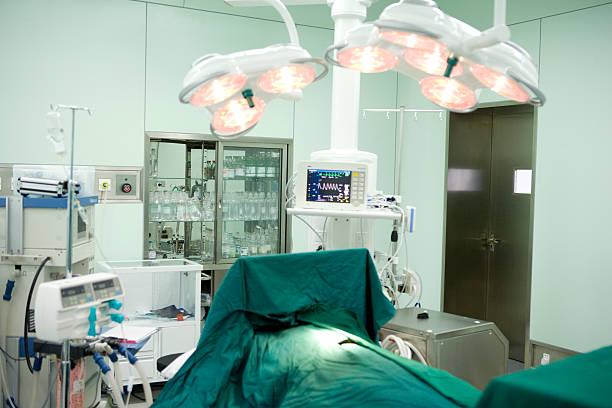bedside_monitor: (298, 161, 369, 213)
breathing_tube: (93, 341, 153, 408)
cabinet: (144, 132, 303, 273)
door_handle: (471, 230, 510, 253)
iv_pole: (357, 103, 448, 233), (50, 104, 94, 277)
operating_bed: (219, 250, 605, 408)
surgical_light: (327, 2, 549, 114), (180, 42, 333, 138)
syringe_pump: (40, 276, 126, 341)
ventilator: (1, 158, 151, 408)
